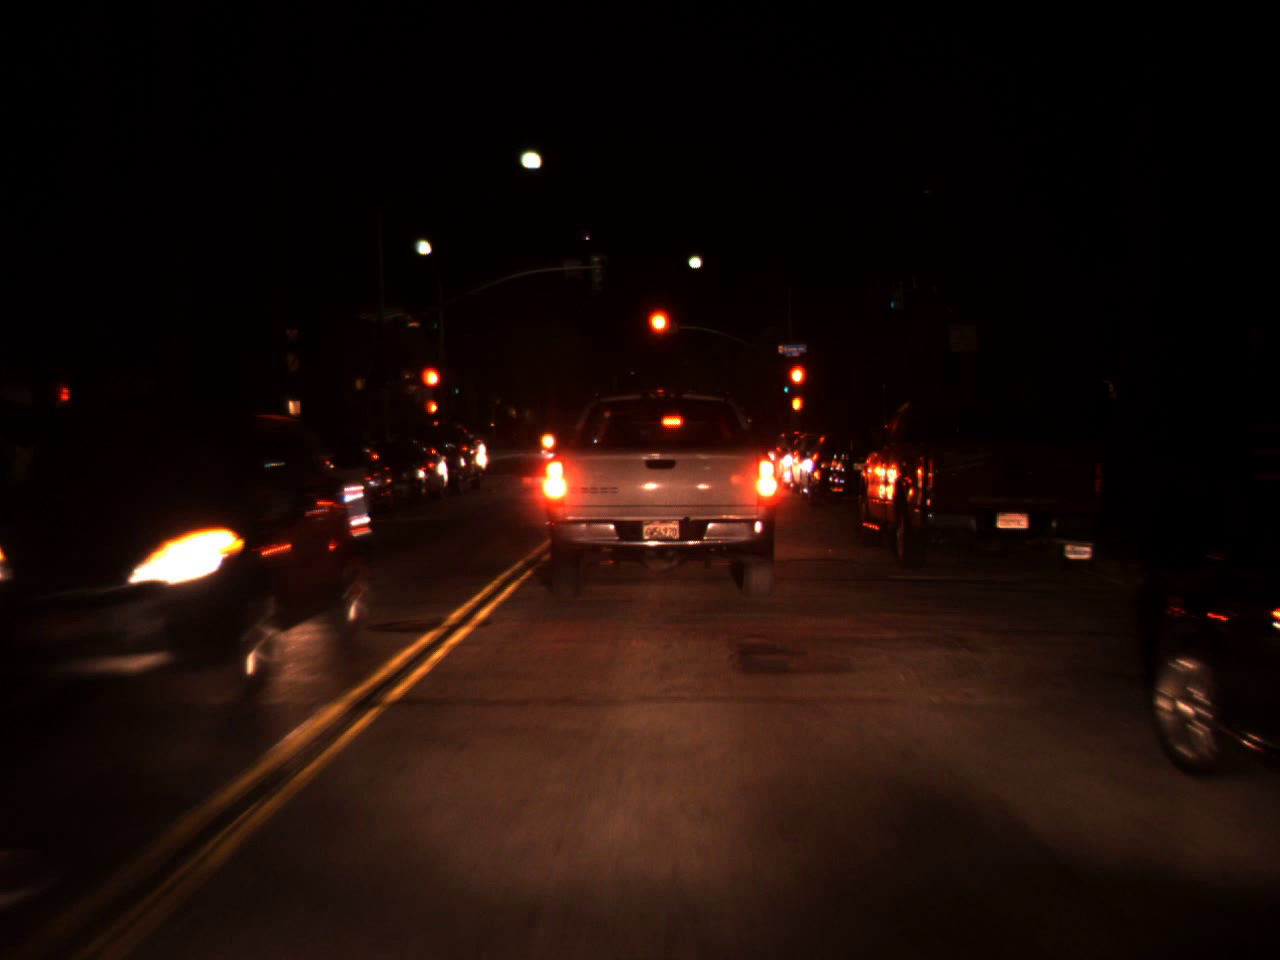stop: (645, 307, 673, 361), (418, 363, 443, 411), (786, 361, 808, 409)
